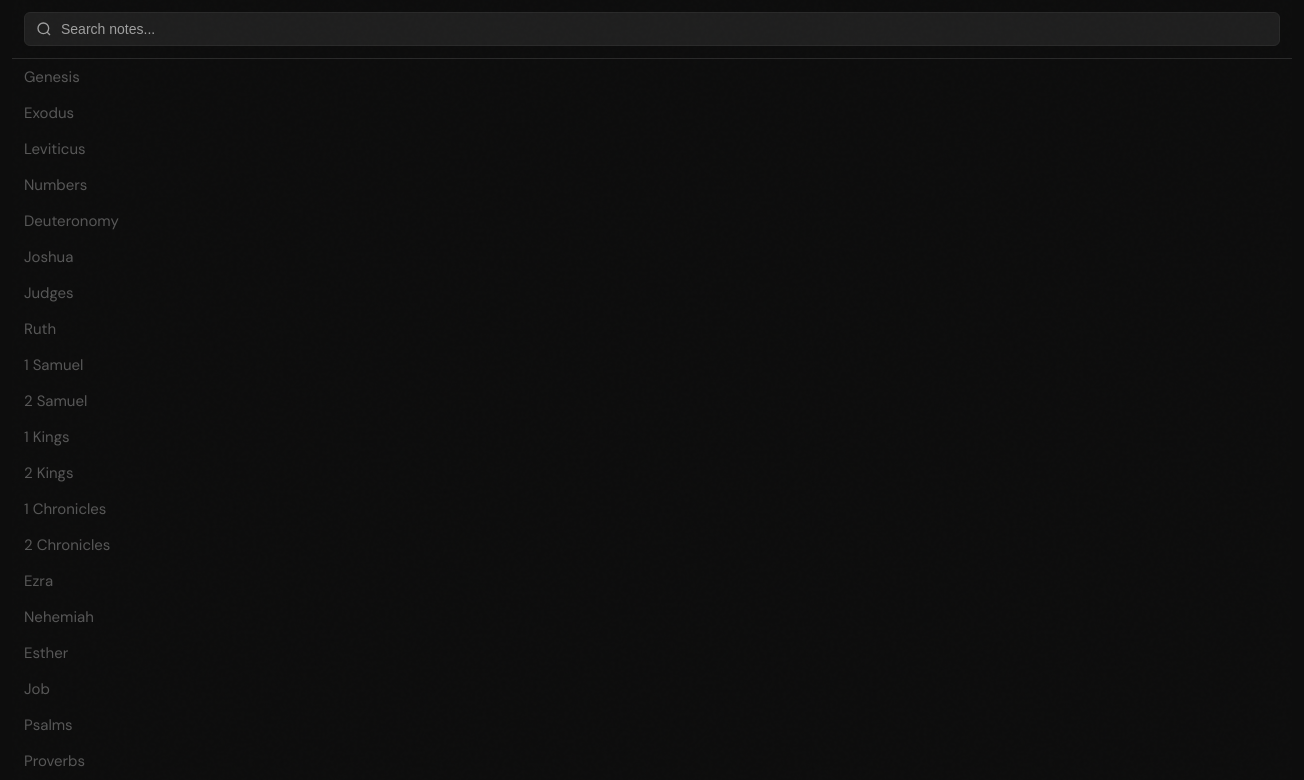
Test: NotesTree › search functionality › shows search results
Type "love" into the field with placeholder "Search notes..." at [652, 29], box [24,12,1280,46]
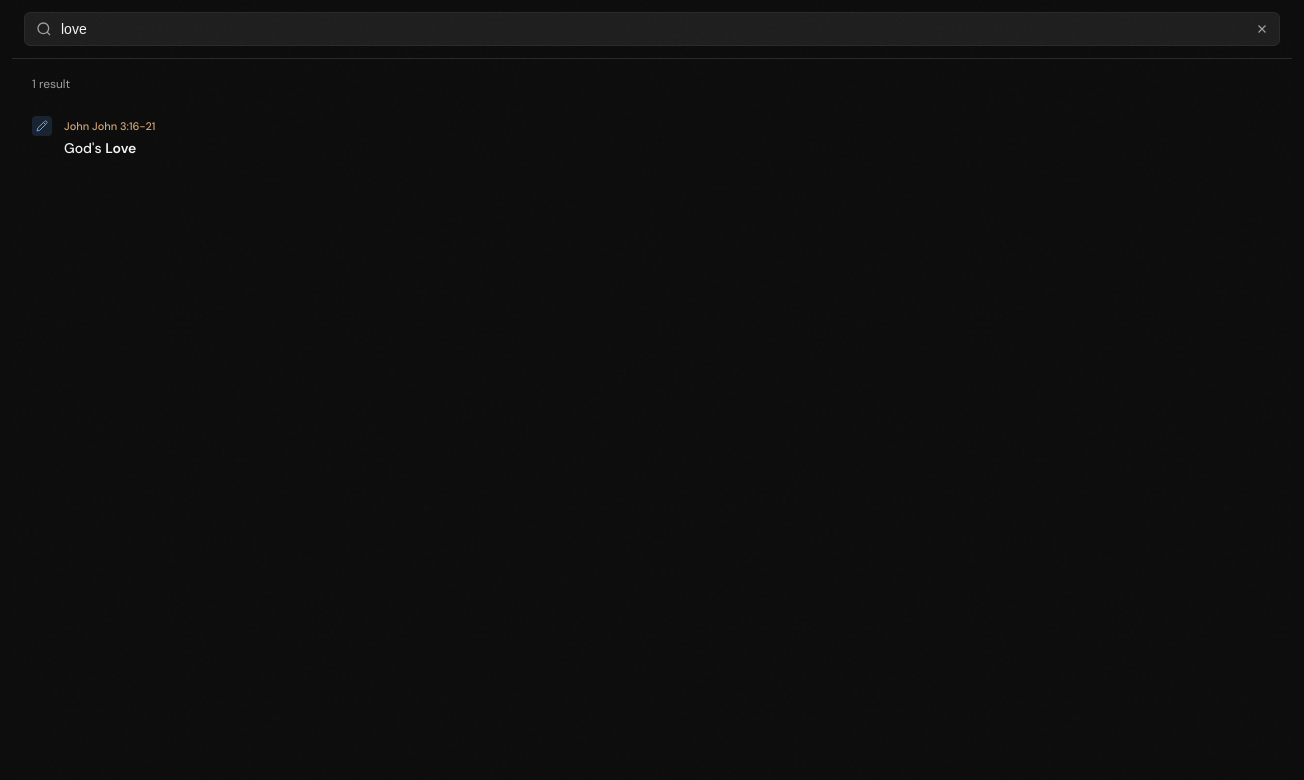
Expected: the text "1 result" is shown, [32,76,70,92]
